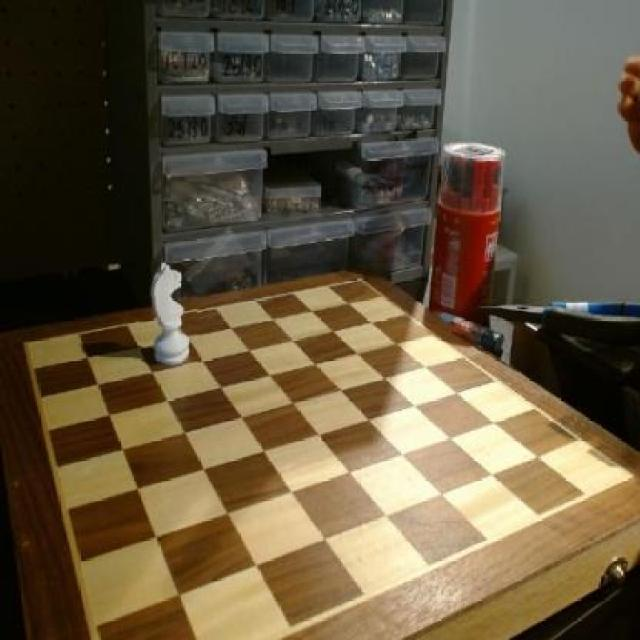white-king: (138, 260, 198, 371)
